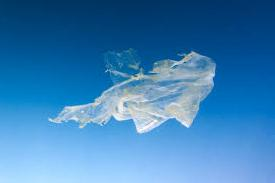Trash: (53, 49, 216, 135)
